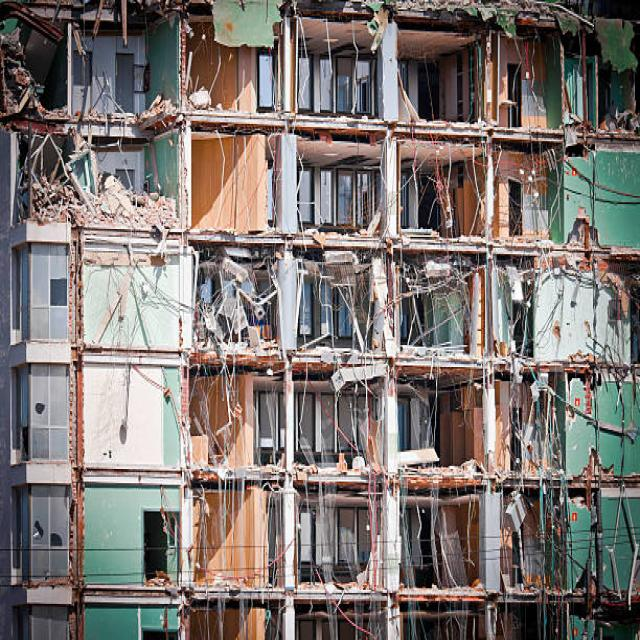Destroyed_building: (4, 10, 640, 639)
